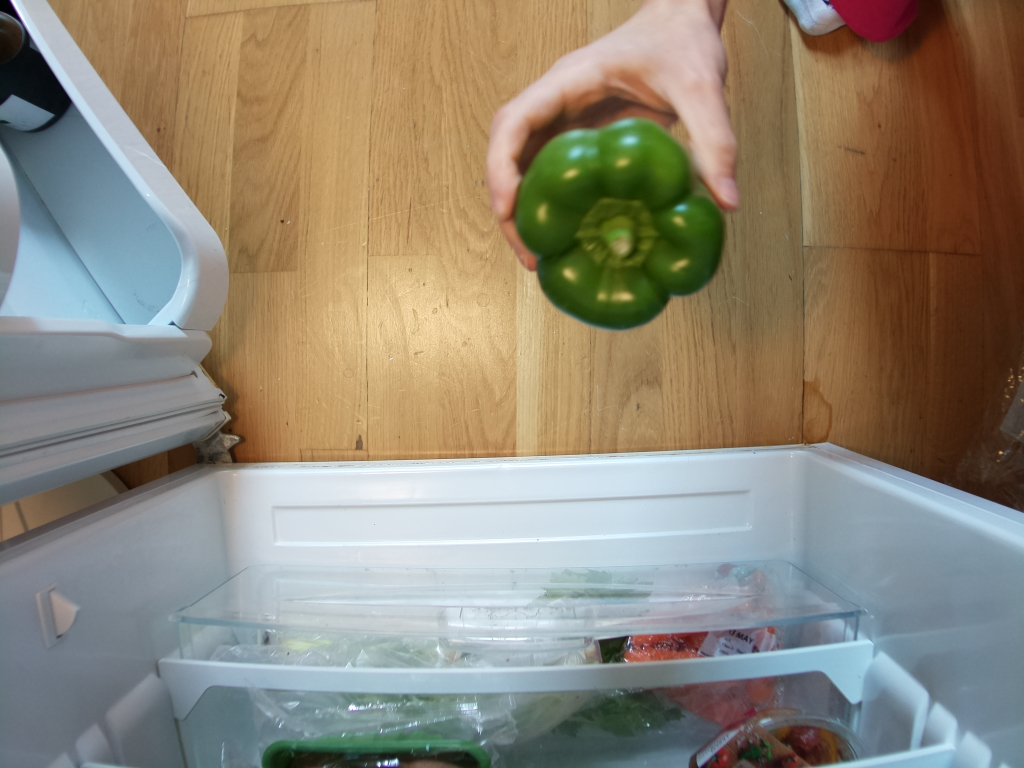pepper: (515, 119, 725, 332)
